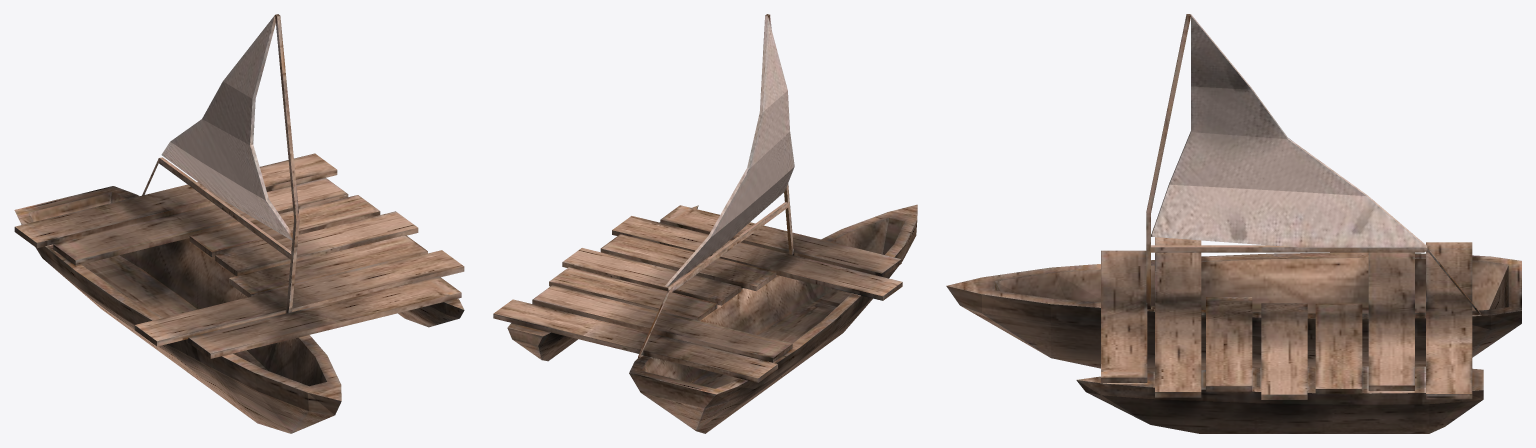
The model's file is raft.glb.
3 renders of one model, left to right at view 1: azimuth 30°, elevation 25°; view 2: azimuth 150°, elevation 25°; view 3: azimuth 270°, elevation 25°, orthographic. The views are drawn at different scales.
Visible parts, largest first — view 1: raft; view 2: raft; view 3: raft.
Boxes of the visible parts, x1,y1,x2,y2 form: raft: [14, 14, 464, 433]; raft: [493, 14, 917, 433]; raft: [946, 14, 1521, 433].
Size of the model in its own units: 10.06 by 11.43 by 15.5.
Materials: 1 (1 with a texture image).
